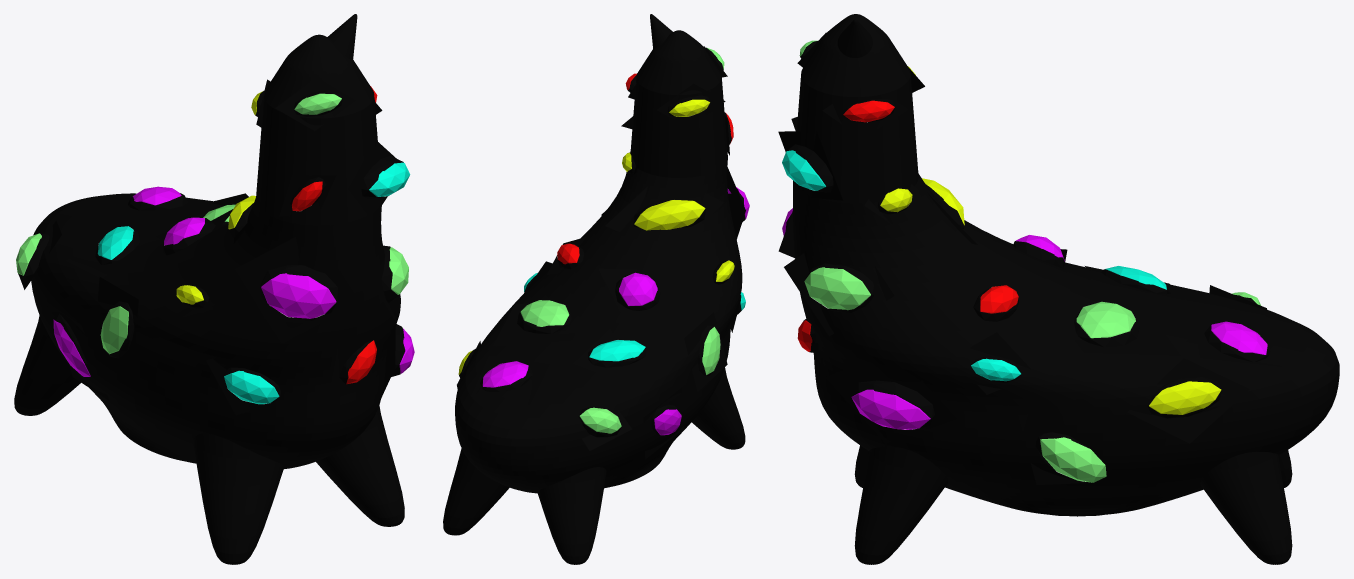
Rendered from abstracted.glb.
3 renders of one model, left to right at view 1: azimuth 30°, elevation 25°; view 2: azimuth 150°, elevation 25°; view 3: azimuth 270°, elevation 25°, orthographic. The views are drawn at different scales.
Visible parts, largest first — view 1: Cylinder_0_3, PurpleEyes_18_70, Icosphere.003_1_6, GreenEyes_20_76, PinkEyes_8_34, Icosphere.046_28_104, Icosphere.005_2_10, Icosphere.007_3_14, BlueEyes_10_40, Icosphere.028_16_62, Icosphere.016_9_36, Icosphere.010_5_22 (+8 smaller); view 2: Cylinder_0_3, YellowEyes_23_86, PurpleEyes_18_70, GreenEyes_20_76, Icosphere.030_17_66, Icosphere.046_28_104, Icosphere.042_26_96, Icosphere.020_12_46, Icosphere.028_16_62, Icosphere.040_25_92, Icosphere.026_15_58, PinkEyes_8_34 (+5 smaller); view 3: Cylinder_0_3, GreenEyes_20_76, PurpleEyes_18_70, Icosphere.038_24_88, Icosphere.032_19_72, YellowEyes_23_86, Icosphere.030_17_66, PinkEyes_8_34, BlueEyes_10_40, Icosphere.028_16_62, Icosphere.012_6_26, Icosphere.007_3_14 (+4 smaller).
Part boxes in pixels (box(x1,y1,x2,y2)): Cylinder_0_3: box(14, 14, 404, 564); PurpleEyes_18_70: box(53, 186, 414, 376); Icosphere.003_1_6: box(235, 237, 358, 343); GreenEyes_20_76: box(16, 93, 408, 354); PinkEyes_8_34: box(97, 162, 410, 404); Icosphere.046_28_104: box(94, 277, 138, 375); Icosphere.005_2_10: box(275, 77, 355, 131); Icosphere.007_3_14: box(348, 140, 403, 212); BlueEyes_10_40: box(292, 86, 377, 384); Icosphere.028_16_62: box(85, 193, 217, 216); Icosphere.016_9_36: box(206, 358, 280, 415); Icosphere.010_5_22: box(279, 175, 336, 216); Cylinder_0_3: box(443, 14, 745, 564); YellowEyes_23_86: box(458, 99, 734, 374); PurpleEyes_18_70: box(482, 187, 749, 435); GreenEyes_20_76: box(520, 48, 724, 433); Icosphere.030_17_66: box(493, 301, 575, 346); Icosphere.046_28_104: box(684, 312, 727, 391); Icosphere.042_26_96: box(562, 387, 631, 450); Icosphere.020_12_46: box(605, 186, 723, 232); Icosphere.028_16_62: box(471, 356, 550, 404); Icosphere.040_25_92: box(573, 329, 668, 383); Icosphere.026_15_58: box(598, 268, 686, 321); PinkEyes_8_34: box(524, 273, 745, 361); Cylinder_0_3: box(793, 14, 1339, 564); GreenEyes_20_76: box(799, 40, 1261, 482); PurpleEyes_18_70: box(782, 208, 1267, 429); Icosphere.038_24_88: box(1127, 358, 1249, 443); Icosphere.032_19_72: box(825, 362, 956, 443); YellowEyes_23_86: box(880, 66, 1221, 414); Icosphere.030_17_66: box(1074, 302, 1180, 355); PinkEyes_8_34: box(782, 150, 1166, 381); BlueEyes_10_40: box(797, 100, 1018, 351); Icosphere.028_16_62: box(1194, 315, 1281, 367); Icosphere.012_6_26: box(784, 253, 894, 336); Icosphere.007_3_14: box(778, 131, 842, 200).
Size of the model in its own units: 2.9 by 5.59 by 5.45.
9 materials, 1 textured.
